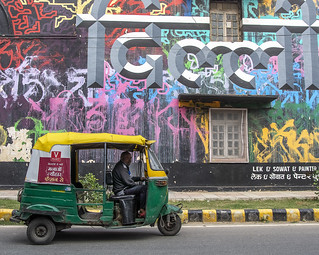threewheel: (8, 133, 183, 244)
